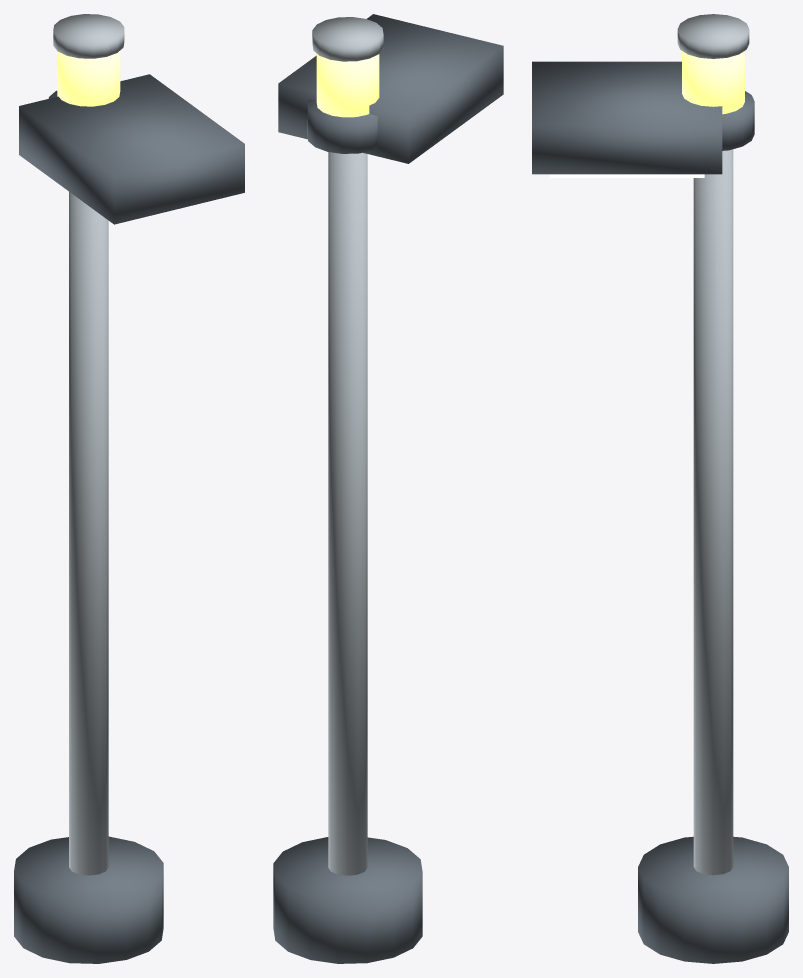
File: light_pole_standard.glb
3 views of the same model, side by side, from view 1: azimuth 30°, elevation 25°; view 2: azimuth 150°, elevation 25°; view 3: azimuth 270°, elevation 25° (orthographic).
Visible parts, largest first — view 1: Pole_steel, Lamp_dark, Base_dark, StatusLight_warn, Beacon_steel; view 2: Pole_steel, Lamp_dark, Base_dark, StatusLight_warn, Beacon_steel, Beacon_dark; view 3: Pole_steel, Lamp_dark, Base_dark, StatusLight_warn, Beacon_steel, Beacon_dark, Lamp_ink.
Boxes of the visible parts, x1=… form: Pole_steel: x1=69, y1=192, x2=108, y2=875; Lamp_dark: x1=19, y1=74, x2=244, y2=224; Base_dark: x1=14, y1=836, x2=163, y2=963; StatusLight_warn: x1=57, y1=51, x2=120, y2=106; Beacon_steel: x1=53, y1=14, x2=124, y2=58; Pole_steel: x1=328, y1=152, x2=367, y2=875; Lamp_dark: x1=278, y1=14, x2=503, y2=163; Base_dark: x1=273, y1=837, x2=422, y2=963; StatusLight_warn: x1=316, y1=54, x2=379, y2=117; Beacon_steel: x1=312, y1=17, x2=383, y2=61; Beacon_dark: x1=307, y1=99, x2=377, y2=153; Pole_steel: x1=693, y1=149, x2=733, y2=875; Lamp_dark: x1=532, y1=61, x2=722, y2=174; Base_dark: x1=638, y1=836, x2=788, y2=963; StatusLight_warn: x1=682, y1=51, x2=744, y2=114; Beacon_steel: x1=677, y1=14, x2=749, y2=58; Beacon_dark: x1=722, y1=91, x2=754, y2=150; Lamp_ink: x1=550, y1=174, x2=704, y2=177.
Size of the model in its own units: 0.42 by 2.77 by 0.715.
